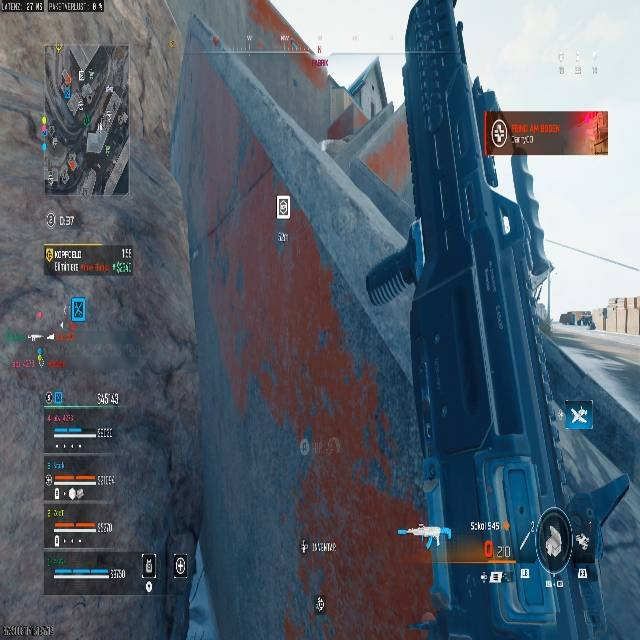player: (580, 311, 595, 330)
